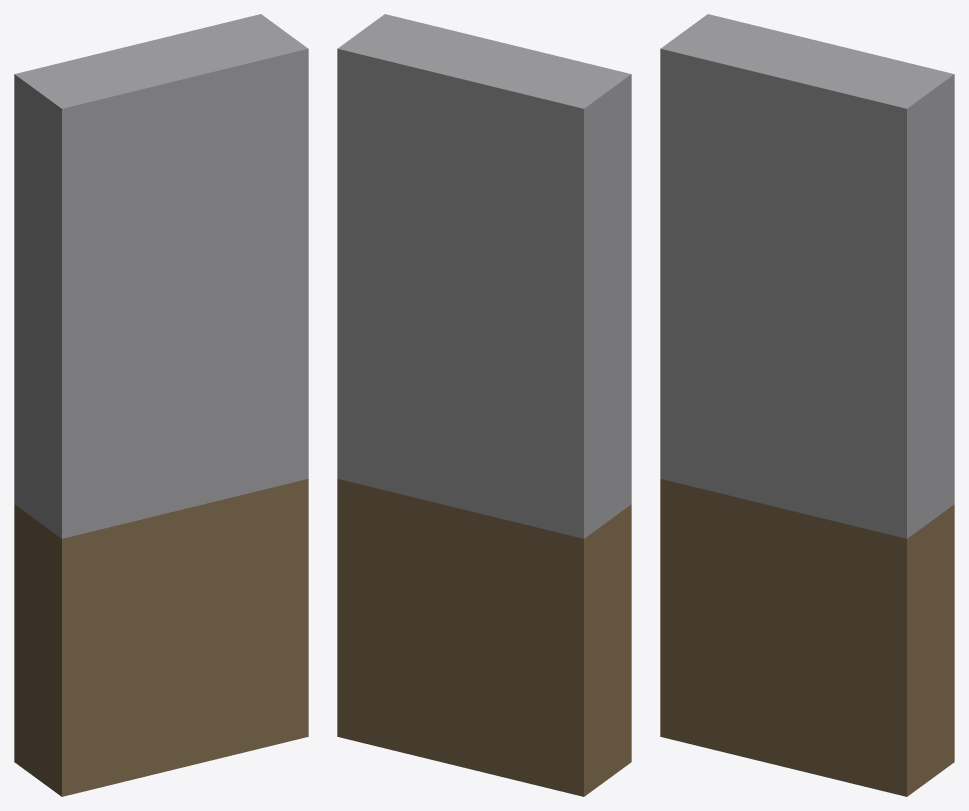
File: cuchillo_picar_cazo_hierro_01.glb
3 renders of one model, left to right at view 1: azimuth 30°, elevation 25°; view 2: azimuth 150°, elevation 25°; view 3: azimuth 330°, elevation 25°, orthographic.
Visible parts, largest first — view 1: cuchillo_picar_cazo_hierro; view 2: cuchillo_picar_cazo_hierro; view 3: cuchillo_picar_cazo_hierro.
Boxes of the visible parts, x1,y1,x2,y2 form: cuchillo_picar_cazo_hierro: [14, 14, 308, 796]; cuchillo_picar_cazo_hierro: [337, 14, 631, 796]; cuchillo_picar_cazo_hierro: [660, 14, 954, 796].
Bounding box in the file's own units: 0.25 × 0.6667 × 0.0833.
